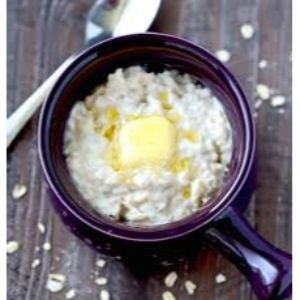oat_brain food: (80, 84, 205, 202)
